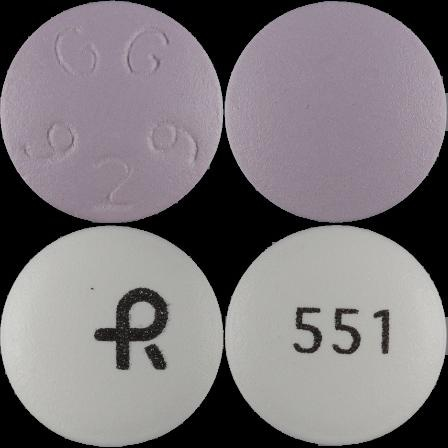67544-892: (0, 0, 224, 224)
